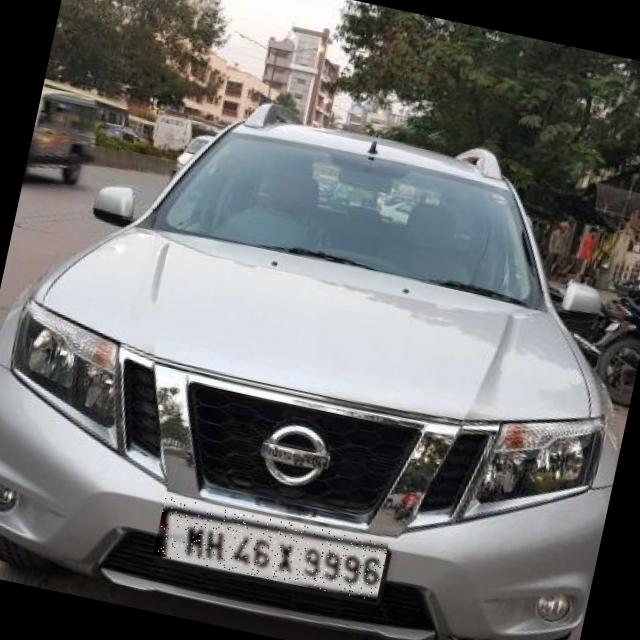Plate: (154, 497, 389, 603)
